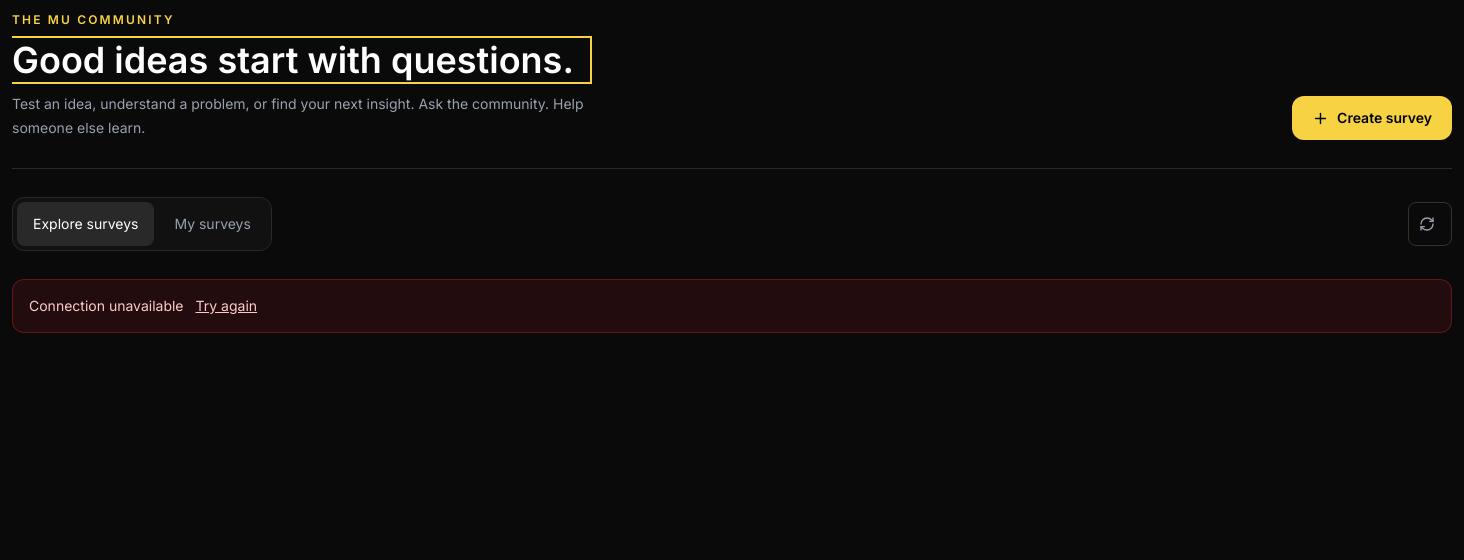
Test: displays actionable loading failures instead of an empty feed
This screenshot has width=1464, height=560.
Check: the message shows "Connection unavailable", box [29, 297, 184, 314]
Click the button "Try again".
click(226, 306)  # box [196, 296, 257, 316]
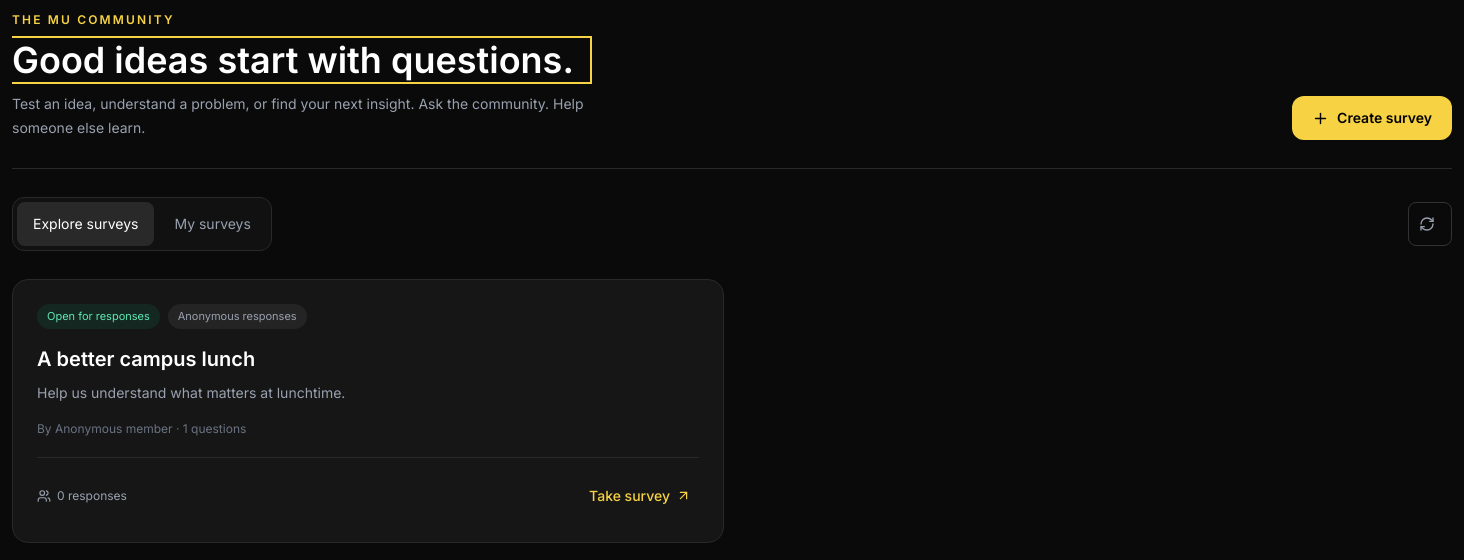
Check: the heading "A better campus lunch" is shown, box [37, 346, 255, 370]
